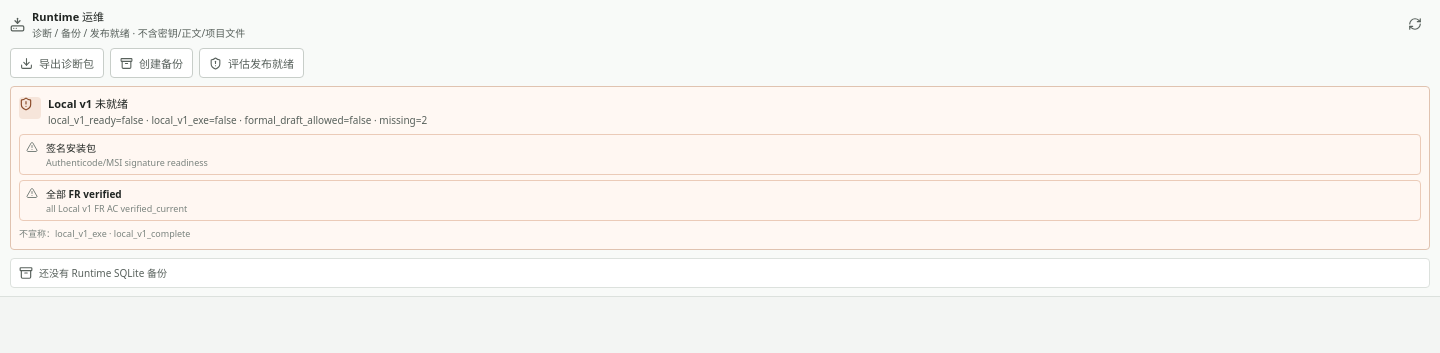
Test: RuntimeOpsPanel › evaluates release readiness fail-closed
Click the button "评估发布就绪": (252, 63) [199,48,304,78]
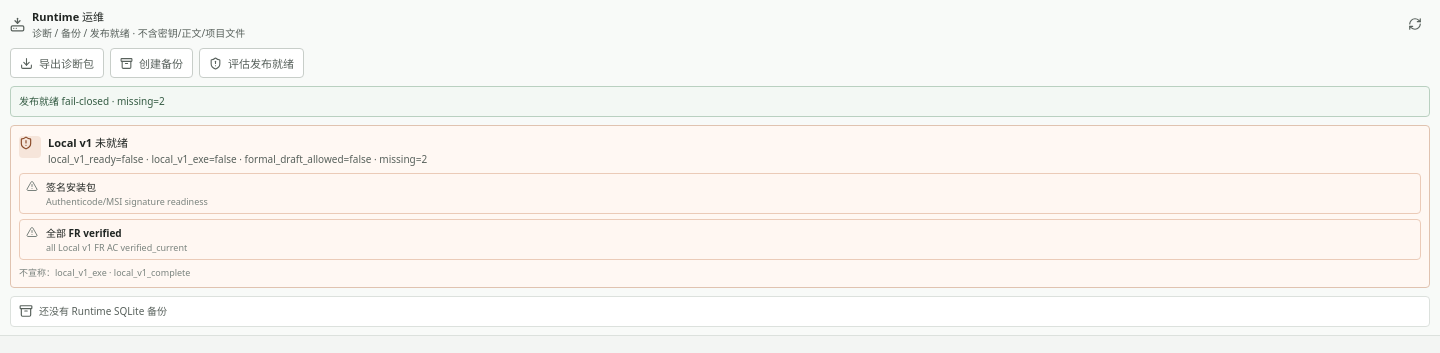
Expected: the text "签名安装包" is shown, [46,180,96,194]
Expected: the text "发布就绪 fail-closed · missing=2" is shown, [19,94,165,108]
